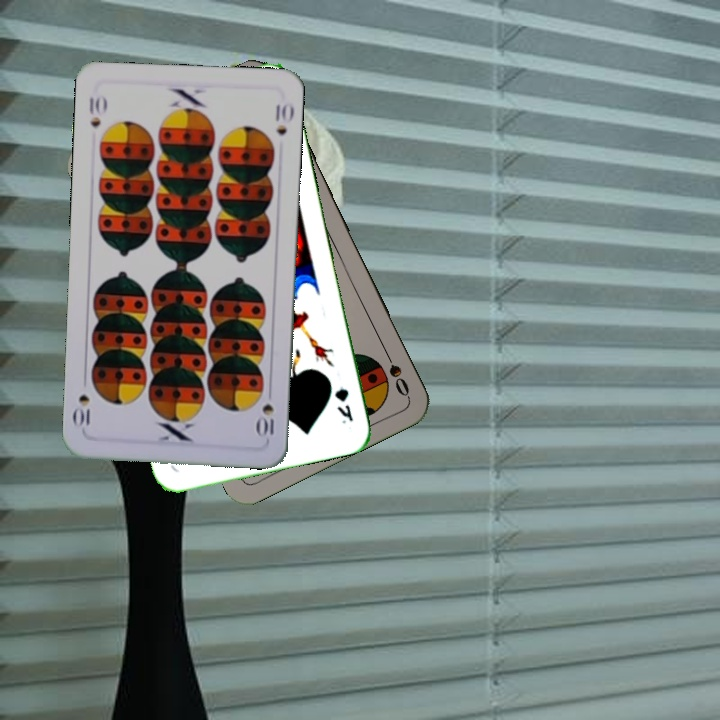GK: (330, 384, 356, 427)
S10: (85, 92, 109, 129), (255, 400, 276, 440)
SO: (379, 344, 412, 399)
